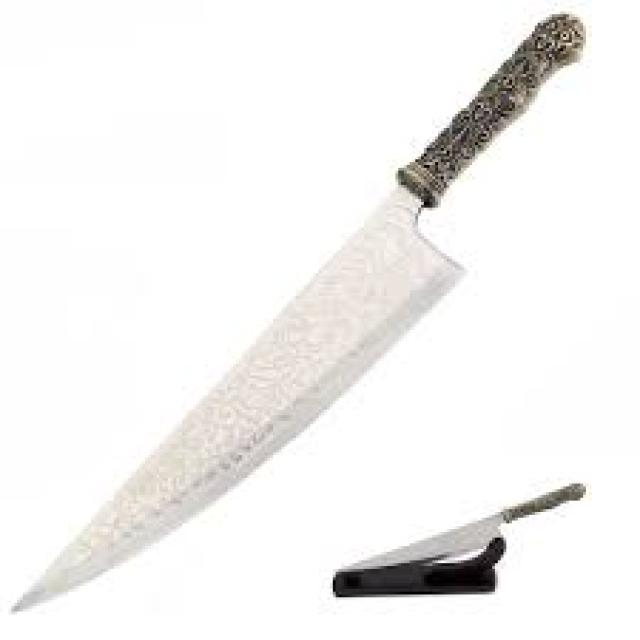knives: (6, 6, 592, 617)
